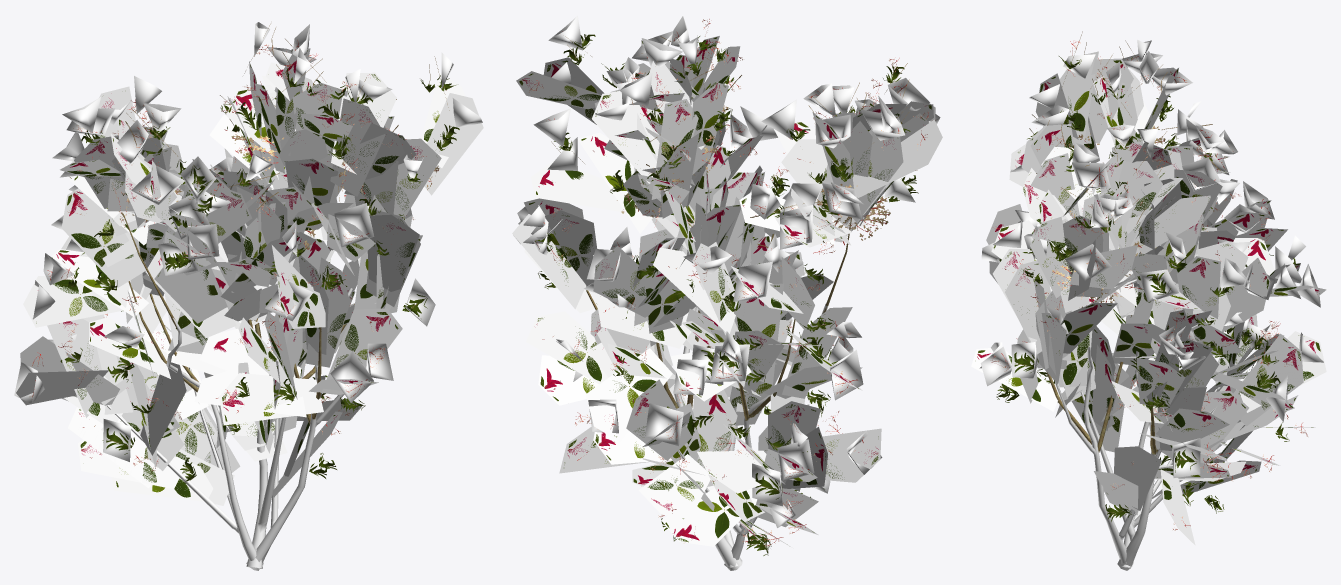
Rendered from photontia5.glb.
3 views of the same model, side by side, from view 1: azimuth 30°, elevation 25°; view 2: azimuth 150°, elevation 25°; view 3: azimuth 270°, elevation 25° (orthographic). The views are drawn at different scales.
Parts seen in each view (by area): view 1: photontia5; view 2: photontia5; view 3: photontia5.
Boxes of the visible parts, box(x1,y1,x2,y2) form: photontia5: box(14, 22, 483, 570); photontia5: box(512, 15, 942, 570); photontia5: box(971, 31, 1326, 570).
Size of the model in its own units: 3.25 by 4.11 by 2.7.
3 materials, 2 textured.
